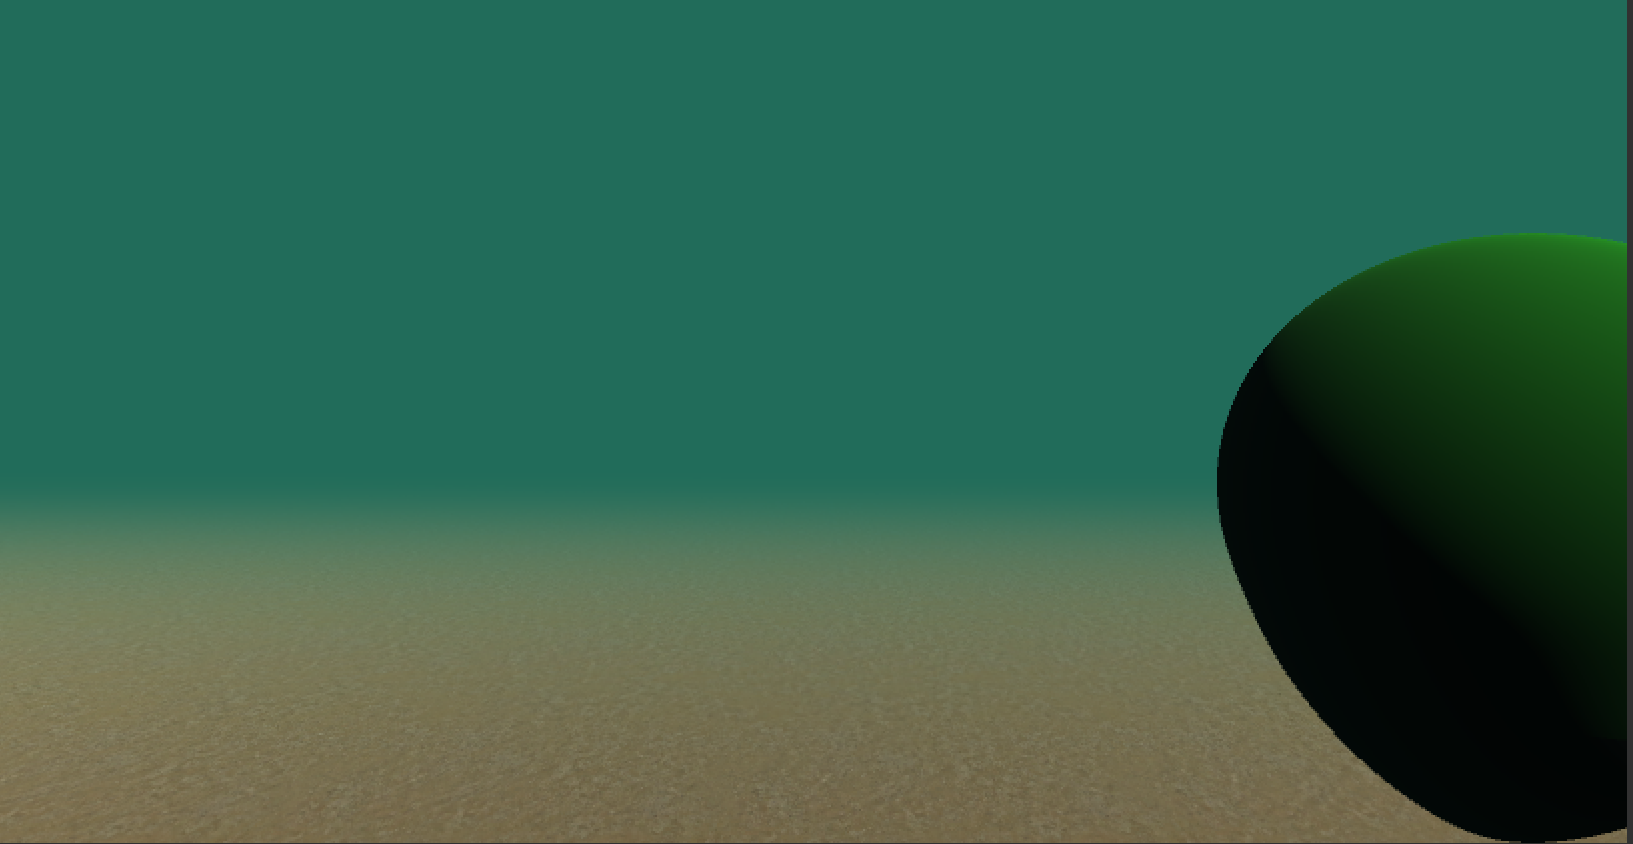green buoy: (1207, 225, 1633, 844)
